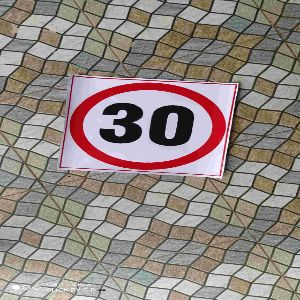speedlimit30: (66, 75, 234, 183)
